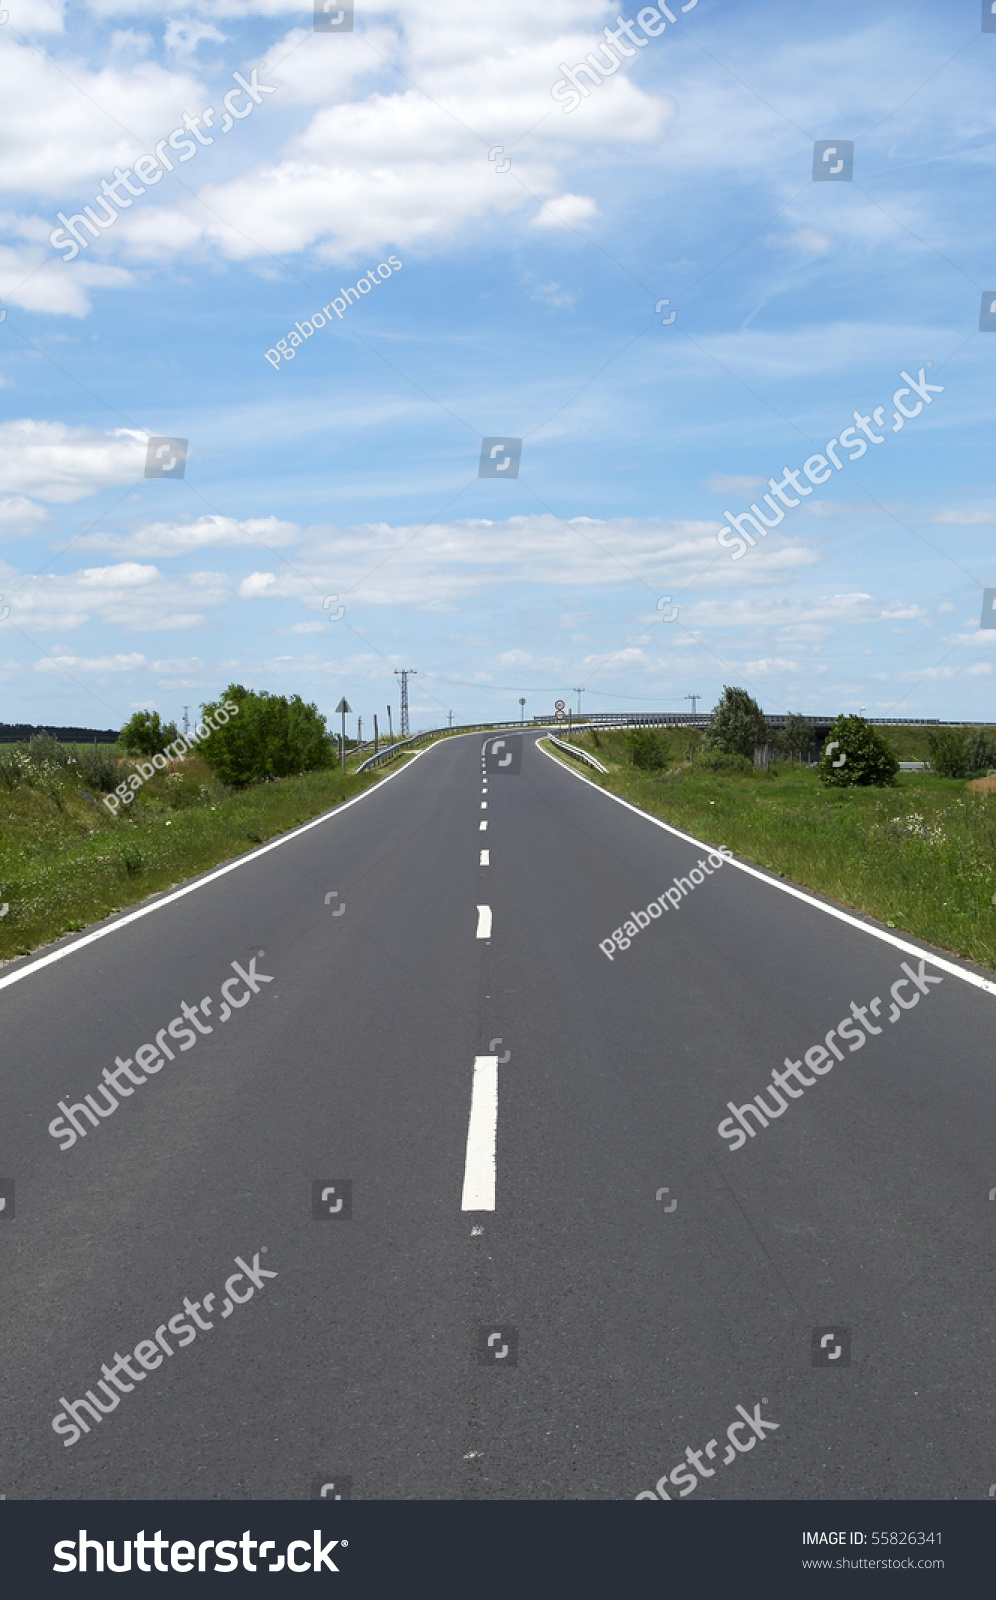LaneMark: (445, 1043, 524, 1231), (464, 898, 512, 958), (469, 843, 512, 881), (474, 793, 503, 843)
